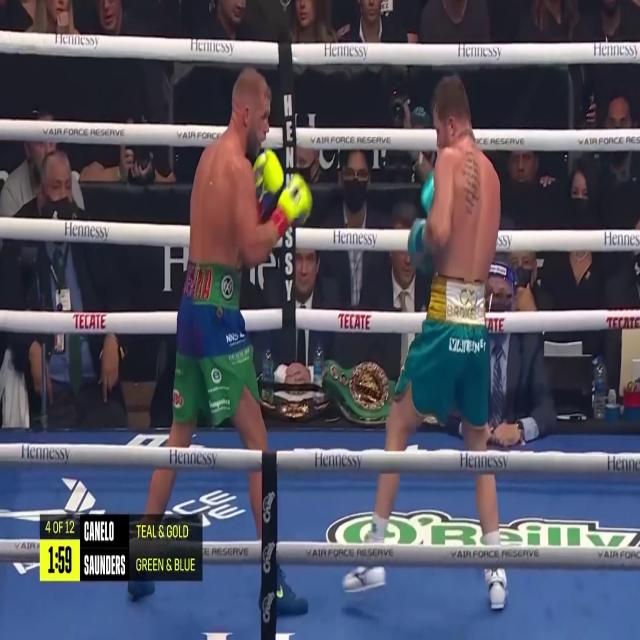boxer_1: (190, 67, 283, 268)
boxer_2: (424, 74, 501, 283), (477, 478, 498, 532)
gloves_1: (253, 148, 313, 236)
gloves_2: (409, 217, 433, 273), (421, 168, 435, 213)
